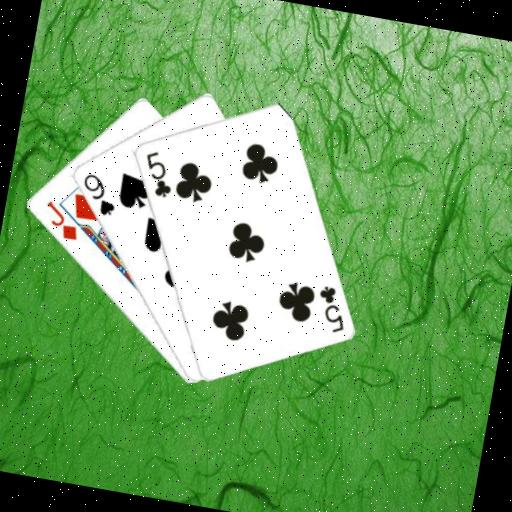5C: (309, 280, 352, 335), (135, 146, 178, 200)
9S: (74, 169, 121, 219)
JD: (37, 197, 84, 243)
